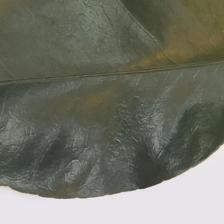healthy: (13, 7, 188, 154)
